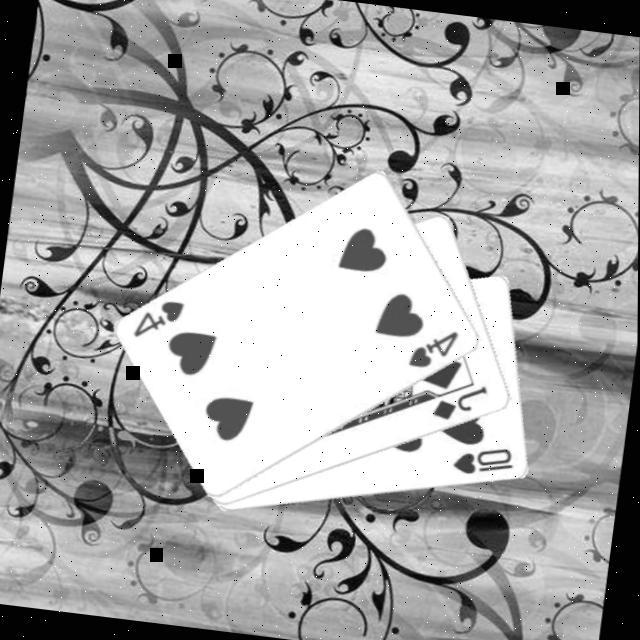10H: (450, 440, 520, 484)
4H: (130, 294, 189, 347), (406, 324, 463, 378)
JD: (430, 378, 492, 430)
